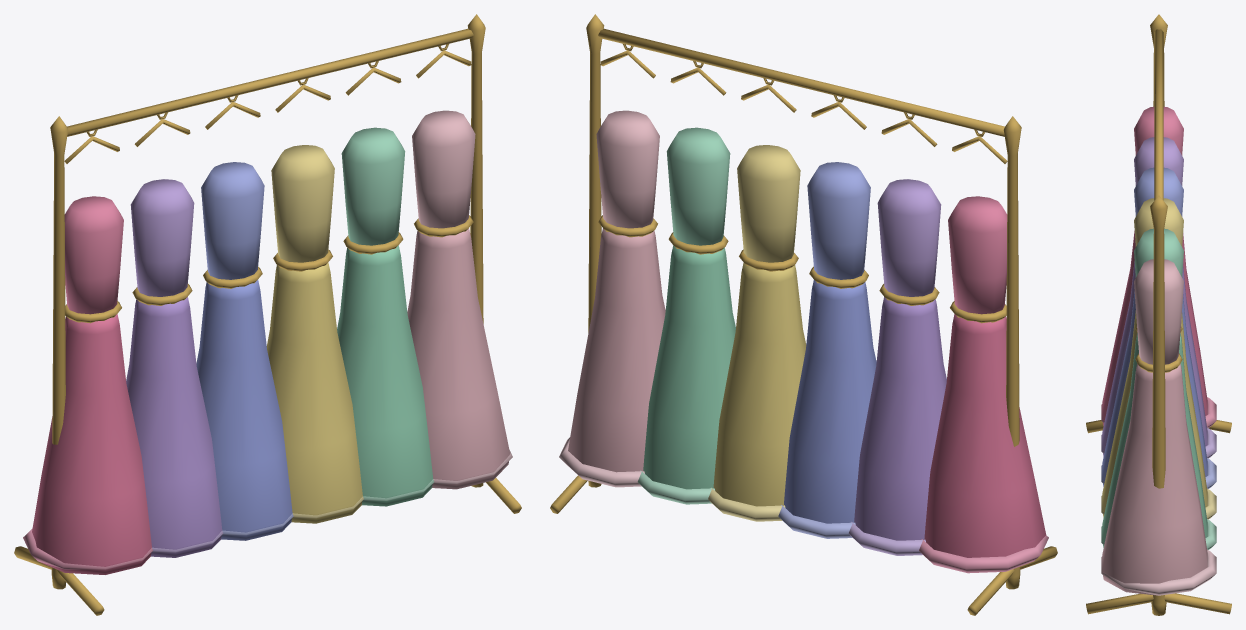
Rendered from gown_rack.glb.
3 views of the same model, side by side, from view 1: azimuth 30°, elevation 25°; view 2: azimuth 150°, elevation 25°; view 3: azimuth 270°, elevation 25° (orthographic). The views are drawn at different scales.
Visible parts, largest first — view 1: gown_rack; view 2: gown_rack; view 3: gown_rack.
Boxes of the visible parts, <box> form: gown_rack: <box>14,14,521,615</box>; gown_rack: <box>550,14,1057,615</box>; gown_rack: <box>1086,14,1231,615</box>.
Size of what is drawn, in the model's own units: 2 by 1.9 by 0.6.
